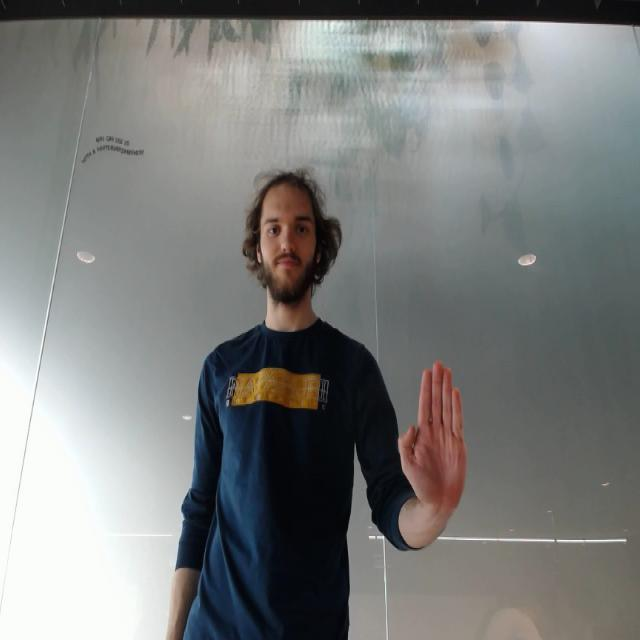backward: (398, 355, 472, 518)
